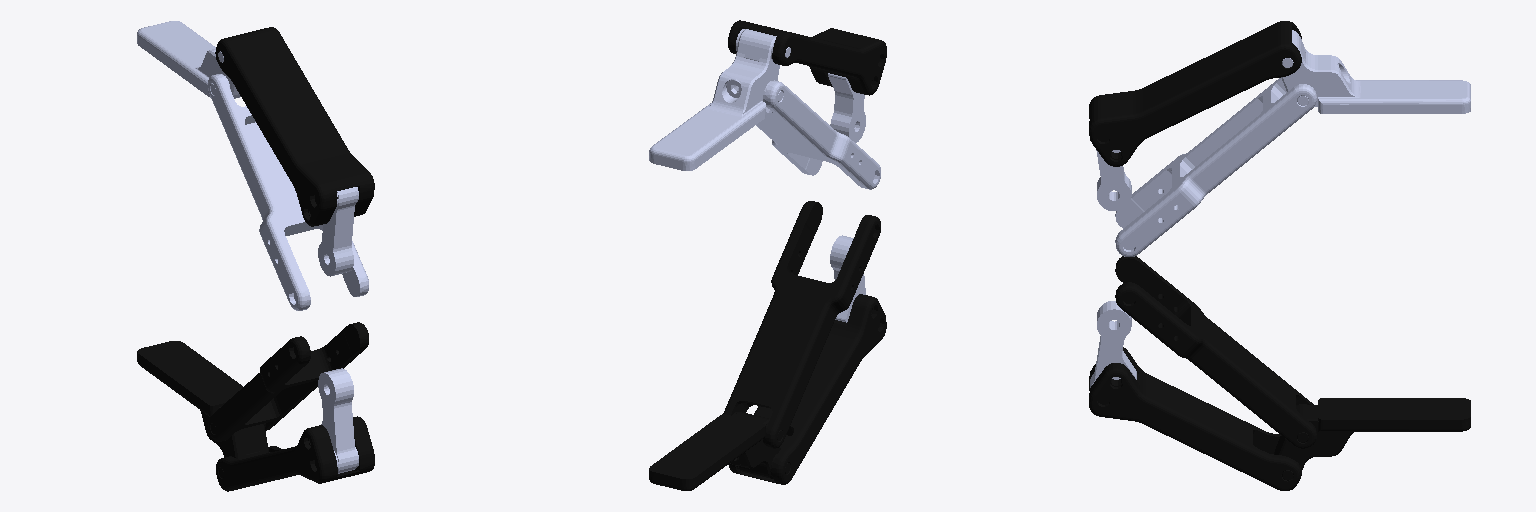
The robot description file, URDF, robot "ur5_robotiq_140":
<?xml version="1.0" ?>
<!-- =================================================================================== -->
<!-- |    This document was autogenerated by xacro from sisbot.xacro                   | -->
<!-- |    EDITING THIS FILE BY HAND IS NOT RECOMMENDED                                 | -->
<!-- =================================================================================== -->
<robot name="ur5_robotiq_140" xmlns:xacro="http://ros.org/wiki/xacro">
  <!--################################################
  ########              arm                    #######
  ####################################################-->

  <link name="base_link">
    <visual>
      <geometry>
        <mesh filename="../meshes/ur5/visual/base.obj"/>
      </geometry>
      <material name="LightGrey">
        <color rgba="0.7 0.7 0.7 1.0"/>
      </material>
    </visual>
    <collision>
      <geometry>
        <mesh filename="../meshes/ur5/collision/base.stl"/>
      </geometry>
    </collision>
    <inertial>
      <mass value="4.0"/>
      <origin rpy="0 0 0" xyz="0.0 0.0 0.0"/>
      <inertia ixx="0.00443333156" ixy="0.0" ixz="0.0" iyy="0.00443333156" iyz="0.0" izz="0.0072"/>
    </inertial>
  </link>

  <joint name="shoulder_pan_joint" type="revolute">
    <parent link="base_link"/>
    <child link="shoulder_link"/>
    <origin rpy="0.0 0.0 0.0" xyz="0.0 0.0 0.089159"/>
    <axis xyz="0 0 1"/>
    <limit effort="150.0" lower="-3.14159265359" upper="3.14159265359" velocity="3.15"/>
    <dynamics damping="0.0" friction="0.0"/>
  </joint>
  <link name="shoulder_link">
    <visual>
      <geometry>
        <mesh filename="../meshes/ur5/visual/shoulder.obj"/>
      </geometry>
      <material name="DarkGray">
        <color rgba="0.5 0.5 0.5 1.0"/>
      </material>
    </visual>
    <collision>
      <geometry>
        <mesh filename="../meshes/ur5/collision/shoulder.stl"/>
      </geometry>
    </collision>
    <inertial>
      <mass value="3.7"/>
      <origin rpy="0 0 0" xyz="0.0 0.0 0.0"/>
      <inertia ixx="0.010267495893" ixy="0.0" ixz="0.0" iyy="0.010267495893" iyz="0.0" izz="0.00666"/>
    </inertial>
  </link>
  <joint name="shoulder_lift_joint" type="revolute">
    <parent link="shoulder_link"/>
    <child link="upper_arm_link"/>
    <origin rpy="0.0 1.57079632679 0.0" xyz="0.0 0.13585 0.0"/>
    <axis xyz="0 1 0"/>
    <limit effort="150.0" lower="-3.14159265359" upper="3.14159265359" velocity="3.15"/>
    <dynamics damping="0.0" friction="0.0"/>
  </joint>
  <link name="upper_arm_link">
    <visual>
      <geometry>
        <mesh filename="../meshes/ur5/visual/upperarm.obj"/>
      </geometry>
      <material name="LightGrey">
        <color rgba="0.7 0.7 0.7 1.0"/>
      </material>
    </visual>
    <collision>
      <geometry>
        <mesh filename="../meshes/ur5/collision/upperarm.stl"/>
      </geometry>
    </collision>
    <inertial>
      <mass value="8.393"/>
      <origin rpy="0 0 0" xyz="0.0 0.0 0.28"/>
      <inertia ixx="0.22689067591" ixy="0.0" ixz="0.0" iyy="0.22689067591" iyz="0.0" izz="0.0151074"/>
    </inertial>
  </link>
  <joint name="elbow_joint" type="revolute">
    <parent link="upper_arm_link"/>
    <child link="forearm_link"/>
    <origin rpy="0.0 0.0 0.0" xyz="0.0 -0.1197 0.425"/>
    <axis xyz="0 1 0"/>
    <limit effort="150.0" lower="-3.14159265359" upper="3.14159265359" velocity="3.15"/>
    <dynamics damping="0.0" friction="0.0"/>
  </joint>
  <link name="forearm_link">
    <visual>
      <geometry>
        <mesh filename="../meshes/ur5/visual/forearm.obj"/>
      </geometry>
      <material name="LightGrey">
        <color rgba="0.7 0.7 0.7 1.0"/>
      </material>
    </visual>
    <collision>
      <geometry>
        <mesh filename="../meshes/ur5/collision/forearm.stl"/>
      </geometry>
    </collision>
    <inertial>
      <mass value="2.275"/>
      <origin rpy="0 0 0" xyz="0.0 0.0 0.25"/>
      <inertia ixx="0.049443313556" ixy="0.0" ixz="0.0" iyy="0.049443313556" iyz="0.0" izz="0.004095"/>
    </inertial>
  </link>
  <joint name="wrist_1_joint" type="revolute">
    <parent link="forearm_link"/>
    <child link="wrist_1_link"/>
    <origin rpy="0.0 1.57079632679 0.0" xyz="0.0 0.0 0.39225"/>
    <axis xyz="0 1 0"/>
    <limit effort="28.0" lower="-3.14159265359" upper="3.14159265359" velocity="3.2"/>
    <dynamics damping="0.0" friction="0.0"/>
  </joint>
  <link name="wrist_1_link">
    <visual>
      <geometry>
        <mesh filename="../meshes/ur5/visual/wrist1.obj"/>
      </geometry>
      <material name="DarkGray">
        <color rgba="0.5 0.5 0.5 1.0"/>
      </material>
    </visual>
    <collision>
      <geometry>
        <mesh filename="../meshes/ur5/collision/wrist1.stl"/>
      </geometry>
    </collision>
    <inertial>
      <mass value="1.219"/>
      <origin rpy="0 0 0" xyz="0.0 0.0 0.0"/>
      <inertia ixx="0.111172755531" ixy="0.0" ixz="0.0" iyy="0.111172755531" iyz="0.0" izz="0.21942"/>
    </inertial>
  </link>
  <joint name="wrist_2_joint" type="revolute">
    <parent link="wrist_1_link"/>
    <child link="wrist_2_link"/>
    <origin rpy="0.0 0.0 0.0" xyz="0.0 0.093 0.0"/>
    <axis xyz="0 0 1"/>
    <limit effort="28.0" lower="-3.14159265359" upper="3.14159265359" velocity="3.2"/>
    <dynamics damping="0.0" friction="0.0"/>
  </joint>
  <link name="wrist_2_link">
    <visual>
      <geometry>
        <mesh filename="../meshes/ur5/visual/wrist2.obj"/>
      </geometry>
      <material name="DarkGray">
        <color rgba="0.5 0.5 0.5 1.0"/>
      </material>
    </visual>
    <collision>
      <geometry>
        <mesh filename="../meshes/ur5/collision/wrist2.stl"/>
      </geometry>
    </collision>
    <inertial>
      <mass value="1.219"/>
      <origin rpy="0 0 0" xyz="0.0 0.0 0.0"/>
      <inertia ixx="0.111172755531" ixy="0.0" ixz="0.0" iyy="0.111172755531" iyz="0.0" izz="0.21942"/>
    </inertial>
  </link>
  <joint name="wrist_3_joint" type="revolute">
    <parent link="wrist_2_link"/>
    <child link="wrist_3_link"/>
    <origin rpy="0.0 0.0 0.0" xyz="0.0 0.0 0.09465"/>
    <axis xyz="0 1 0"/>
    <limit effort="28.0" lower="-3.14159265359" upper="3.14159265359" velocity="3.2"/>
    <dynamics damping="0.0" friction="0.0"/>
  </joint>
  <link name="wrist_3_link">
    <visual>
      <geometry>
        <mesh filename="../meshes/ur5/visual/wrist3.obj"/>
      </geometry>
      <material name="LightGrey">
        <color rgba="0.7 0.7 0.7 1.0"/>
      </material>
    </visual>
    <collision>
      <geometry>
        <mesh filename="../meshes/ur5/collision/wrist3.stl"/>
      </geometry>
    </collision>
    <inertial>
      <mass value="0.1879"/>
      <origin rpy="0 0 0" xyz="0.0 0.0 0.0"/>
      <inertia ixx="0.0171364731454" ixy="0.0" ixz="0.0" iyy="0.0171364731454" iyz="0.0" izz="0.033822"/>
    </inertial>
  </link>
  <joint name="ee_fixed_joint" type="fixed">
    <parent link="wrist_3_link"/>
    <child link="ee_link"/>
    <origin rpy="0.0 0.0 1.57079632679" xyz="0.0 0.0823 0.0"/>
  </joint>
  <link name="ee_link">
    <collision>
      <geometry>
        <box size="0.01 0.01 0.01"/>
      </geometry>
      <origin rpy="0 0 0" xyz="-0.01 0 0"/>
    </collision>
  </link>

  <!--################################################
  ########              gripper                  #####
  ####################################################-->

 <link name="robotiq_140_robotiq_arg2f_base_link">
    <inertial>
      <origin rpy="0 0 0" xyz="-0.00013 0.00011 0.03284"/>
      <mass value="0.52954"/>
      <inertia ixx="573495E-9" ixy="-554E-9" ixz="2628E-9" iyy="681780E-9" iyz="607E-9" izz="483281E-9"/>
    </inertial>
    <visual>
      <origin rpy="0 0 0" xyz="0 0 0"/>
      <geometry>
        <mesh filename="package://robotiq_140_gripper_description/meshes/GRIPPER_base_axis.dae" scale="0.001 0.001 0.001"/>
      </geometry>
      <material name="Gazebo/Black">
        <color rgba="0.1 0.1 0.1 1"/>
      </material>
    </visual>
    <collision>
      <origin rpy="0 0 0" xyz="0 0 0"/>
      <geometry>
        <mesh filename="package://robotiq_140_gripper_description/meshes/GRIPPER_base_axis.dae" scale="0.001 0.001 0.001"/>
      </geometry>
    </collision>
  </link>
  <gazebo reference="robotiq_140_robotiq_arg2f_base_link">
    <material>Gazebo/Black</material>
    <selfCollide>True</selfCollide>
  </gazebo>
  <!-- robotiq_85_left_knuckle_link -->
  <link name="robotiq_140_left_outer_knuckle">
    <inertial>
      <origin rpy="0 0 0" xyz="0.01616 0 -0.00133"/>
      <mass value="0.0131"/>
      <inertia ixx="325.5E-9" ixy="0" ixz="197.94E-9" iyy="2306.36E-9" iyz="0" izz="2176E-9"/>
    </inertial>
    <visual>
      <origin rpy="0 0 0" xyz="0 0 0"/>
      <geometry>
        <mesh filename="package://robotiq_140_gripper_description/meshes/robotiq_140_left_outer_knuckle.dae" scale="0.001 0.001 0.001"/>
      </geometry>
      <material name="">
        <color rgba="0.792156862745098 0.819607843137255 0.933333333333333 1"/>
      </material>
    </visual>
    <collision>
      <origin rpy="0 0 0" xyz="0 0 0"/>
      <geometry>
        <mesh filename="package://robotiq_140_gripper_description/meshes/robotiq_140_left_outer_knuckle.dae" scale="0.001 0.001 0.001"/>
      </geometry>
    </collision>
  </link>
  <gazebo reference="robotiq_140_left_outer_knuckle">
    <material>Gazebo/Grey</material>
    <selfCollide>True</selfCollide>
  </gazebo>
  <!-- robotiq_85_right_knuckle_link -->
  <link name="robotiq_140_right_outer_knuckle">
    <inertial>
      <origin rpy="0 0 0" xyz="-0.01616 0 -0.00133"/>
      <mass value="0.0131"/>
      <inertia ixx="325.5E-9" ixy="0" ixz="-197.94E-9" iyy="2306.36E-9" iyz="0" izz="2176E-9"/>
    </inertial>
    <visual>
      <origin rpy="0 0 0" xyz="0 0 0"/>
      <geometry>
        <mesh filename="package://robotiq_140_gripper_description/meshes/robotiq_140_right_outer_knuckle.dae" scale="0.001 0.001 0.001"/>
      </geometry>
      <material name="">
        <color rgba="0.792156862745098 0.819607843137255 0.933333333333333 1"/>
      </material>
    </visual>
    <collision>
      <origin rpy="0 0 0" xyz="0 0 0"/>
      <geometry>
        <mesh filename="package://robotiq_140_gripper_description/meshes/robotiq_140_right_outer_knuckle.dae" scale="0.001 0.001 0.001"/>
      </geometry>
    </collision>
  </link>
  <gazebo reference="robotiq_140_right_outer_knuckle">
    <material>Gazebo/Grey</material>
    <selfCollide>True</selfCollide>
  </gazebo>
  <!-- robotiq_85_left_inner_knuckle_link -->
  <link name="robotiq_140_left_inner_knuckle">
    <inertial>
      <origin rpy="0 0 0" xyz="0.03332 0 0.0379"/>
      <mass value="0.04476"/>
      <inertia ixx="28054E-9" ixy="0" ixz="-19174E-9" iyy="39758E-9" iyz="0" izz="23453E-9"/>
    </inertial>
    <visual>
      <origin rpy="0 0 0" xyz="0 0 0"/>
      <geometry>
        <mesh filename="package://robotiq_140_gripper_description/meshes/robotiq_140_left_inner_knuckle.dae" scale="0.001 0.001 0.001"/>
      </geometry>
      <material name="">
        <color rgba="0.792156862745098 0.819607843137255 0.933333333333333 1"/>
      </material>
    </visual>
    <collision>
      <origin rpy="0 0 0" xyz="0 0 0"/>
      <geometry>
        <mesh filename="package://robotiq_140_gripper_description/meshes/robotiq_140_left_inner_knuckle.dae" scale="0.001 0.001 0.001"/>
      </geometry>
    </collision>
  </link>
  <gazebo reference="robotiq_140_left_inner_knuckle">
    <material>Gazebo/Black</material>
    <selfCollide>False</selfCollide>
  </gazebo>
  <!-- robotiq_85_right_inner_knuckle_link -->
  <link name="robotiq_140_right_inner_knuckle">
    <inertial>
      <origin rpy="0 0 0" xyz="-0.03332 0 0.0379"/>
      <mass value="0.04476"/>
      <inertia ixx="28054E-9" ixy="0" ixz="19174E-9" iyy="39758E-9" iyz="0" izz="23453E-9"/>
    </inertial>
    <visual>
      <origin rpy="0 0 0" xyz="0 0 0"/>
      <geometry>
        <mesh filename="package://robotiq_140_gripper_description/meshes/robotiq_140_right_inner_knuckle.dae" scale="0.001 0.001 0.001"/>
      </geometry>
      <material name="Gazebo/Black">
        <color rgba="0.1 0.1 0.1 1"/>
      </material>
    </visual>
    <collision>
      <origin rpy="0 0 0" xyz="0 0 0"/>
      <geometry>
        <mesh filename="package://robotiq_140_gripper_description/meshes/robotiq_140_right_inner_knuckle.dae" scale="0.001 0.001 0.001"/>
      </geometry>
    </collision>
  </link>
  <gazebo reference="robotiq_140_right_inner_knuckle">
    <material>Gazebo/Black</material>
    <selfCollide>False</selfCollide>
  </gazebo>
  <!-- robotiq_85_left_finger_link -->
  <link name="robotiq_140_left_inner_finger">
    <inertial>
      <origin rpy="0 0 0" xyz="-0.01563 0 0.02522"/>
      <mass value="0.045"/>
      <inertia ixx="26663E-9" ixy="0" ixz="5579E-9" iyy="28009E-9" iyz="0" izz="4368E-9"/>
    </inertial>
    <visual>
      <origin rpy="0 0 0" xyz="0 0 0"/>
      <geometry>
        <mesh filename="package://robotiq_140_gripper_description/meshes/robotiq_140_left_inner_finger.dae" scale="0.001 0.001 0.001"/>
      </geometry>
      <material name="">
        <color rgba="0.792156862745098 0.819607843137255 0.933333333333333 1"/>
      </material>
    </visual>
    <collision>
      <origin rpy="0 0 0" xyz="0 0 0"/>
      <geometry>
        <mesh filename="package://robotiq_140_gripper_description/meshes/robotiq_140_left_inner_finger.dae" scale="0.001 0.001 0.001"/>
      </geometry>
    </collision>
  </link>
  <gazebo reference="robotiq_140_left_inner_finger">
    <material>Gazebo/Black</material>
    <selfCollide>False</selfCollide>
  </gazebo>
  <!-- robotiq_85_right_finger_link -->
  <link name="robotiq_140_right_inner_finger">
    <inertial>
      <origin rpy="0 0 0" xyz="0.01563 0 0.02522"/>
      <mass value="0.045"/>
      <inertia ixx="26663E-9" ixy="0" ixz="-5579E-9" iyy="28009E-9" iyz="0" izz="4368E-9"/>
    </inertial>
    <visual>
      <origin rpy="0 0 0" xyz="0 0 0"/>
      <geometry>
        <mesh filename="package://robotiq_140_gripper_description/meshes/robotiq_140_right_inner_finger.dae" scale="0.001 0.001 0.001"/>
      </geometry>
      <material name="Gazebo/Black">
        <color rgba="0.1 0.1 0.1 1"/>
      </material>
    </visual>
    <collision>
      <origin rpy="0 0 0" xyz="0 0 0"/>
      <geometry>
        <mesh filename="package://robotiq_140_gripper_description/meshes/robotiq_140_right_inner_finger.dae" scale="0.001 0.001 0.001"/>
      </geometry>
    </collision>
  </link>
  <gazebo reference="robotiq_140_right_inner_finger">
    <material>Gazebo/Black</material>
    <selfCollide>False</selfCollide>
  </gazebo>
  <!-- robot -->
  <link name="robotiq_140_left_outer_finger">
    <inertial>
      <origin rpy="0 0 0" xyz="0.01482 0 0.03451"/>
      <mass value="0.07637"/>
      <inertia ixx="45513E-9" ixy="0" ixz="-20691E-9" iyy="52570E-9" iyz="0" izz="17804E-9"/>
    </inertial>
    <visual>
      <origin rpy="0 0 0" xyz="0 0 0"/>
      <geometry>
        <mesh filename="package://robotiq_140_gripper_description/meshes/robotiq_140_left_outer_finger.dae" scale="0.001 0.001 0.001"/>
      </geometry>
      <material name="Gazebo/Black">
        <color rgba="0.1 0.1 0.1 1"/>
      </material>
    </visual>
    <collision>
      <origin rpy="0 0 0" xyz="0 0 0"/>
      <geometry>
        <mesh filename="package://robotiq_140_gripper_description/meshes/robotiq_140_left_outer_finger.dae" scale="0.001 0.001 0.001"/>
      </geometry>
    </collision>
  </link>
  <gazebo reference="robotiq_140_left_outer_finger">
    <material>Gazebo/Black</material>
    <selfCollide>True</selfCollide>
  </gazebo>
  <!-- robot -->
  <link name="robotiq_140_right_outer_finger">
    <inertial>
      <origin rpy="0 0 0" xyz="-0.01482 0 0.03451"/>
      <mass value="0.07637"/>
      <inertia ixx="45513E-9" ixy="0" ixz="20691E-9" iyy="52570E-9" iyz="0" izz="17804E-9"/>
    </inertial>
    <visual>
      <origin rpy="0 0 0" xyz="0 0 0"/>
      <geometry>
        <mesh filename="package://robotiq_140_gripper_description/meshes/robotiq_140_right_outer_finger.dae" scale="0.001 0.001 0.001"/>
      </geometry>
      <material name="Gazebo/Black">
        <color rgba="0.1 0.1 0.1 1"/>
      </material>
    </visual>
    <collision>
      <origin rpy="0 0 0" xyz="0 0 0"/>
      <geometry>
        <mesh filename="package://robotiq_140_gripper_description/meshes/robotiq_140_right_outer_finger.dae" scale="0.001 0.001 0.001"/>
      </geometry>
    </collision>
  </link>
  <gazebo reference="robotiq_140_right_outer_finger">
    <material>Gazebo/Black</material>
    <selfCollide>True</selfCollide>
  </gazebo>
  <!-- robot -->
  <joint name="robotiq_arg2f_base_to_robotiq_140_left_outer_knuckle" type="revolute">
    <origin rpy="0 0 0" xyz="0.0306 0 0.05466"/>
    <parent link="robotiq_140_robotiq_arg2f_base_link"/>
    <child link="robotiq_140_left_outer_knuckle"/>
    <axis xyz="0 -1 0"/>
    <limit effort="18.65" lower="0" upper="0.78574722925" velocity="2.0"/>
    <mimic joint="robotiq_140_joint_finger" multiplier="1" offset="0"/>
  </joint>
  <!-- robot -->
  <joint name="robotiq_140_joint_finger" type="revolute">
    <origin rpy="0 0 0" xyz="-0.0306 0 0.05466"/>
    <parent link="robotiq_140_robotiq_arg2f_base_link"/>
    <child link="robotiq_140_right_outer_knuckle"/>
    <axis xyz="0 1 0"/>
    <limit effort="18.65" lower="0" upper="0.78574722925" velocity="3.54"/>
  </joint>
  <!-- robot -->
  <joint name="robotiq_arg2f_base_to_robotiq_140_left_inner_knuckle" type="revolute">
    <origin rpy="0 0 0" xyz="0.0127 0 0.06118"/>
    <parent link="robotiq_140_robotiq_arg2f_base_link"/>
    <child link="robotiq_140_left_inner_knuckle"/>
    <axis xyz="0 -1 0"/>
    <limit effort="18.65" lower="0" upper="0.78574722925" velocity="3.54"/>
    <mimic joint="robotiq_140_joint_finger" multiplier="1" offset="0"/>
  </joint>
  <!-- robot -->
  <joint name="robotiq_arg2f_base_to_robotiq_140_right_inner_knuckle" type="revolute">
    <origin rpy="0 0 0" xyz="-0.0127 0 0.06118"/>
    <parent link="robotiq_140_robotiq_arg2f_base_link"/>
    <child link="robotiq_140_right_inner_knuckle"/>
    <axis xyz="0 1 0"/>
    <limit effort="18.65" lower="0" upper="0.78574722925" velocity="3.54"/>
    <mimic joint="robotiq_140_joint_finger" multiplier="1" offset="0"/>
  </joint>
  <!-- robot -->
  <joint name="robotiq_140_left_outer_knuckle_to_finger" type="fixed">
    <origin rpy="0 0 0" xyz="0.03142 0 -0.00453"/>
    <parent link="robotiq_140_left_outer_knuckle"/>
    <child link="robotiq_140_left_outer_finger"/>
  </joint>

  <!-- robot -->
  <joint name="robotiq_140_right_outer_knuckle_to_finger" type="fixed">
    <origin rpy="0 0 0" xyz="-0.03142 0 -0.00453"/>
    <parent link="robotiq_140_right_outer_knuckle"/>
    <child link="robotiq_140_right_outer_finger"/>
  </joint>
  <!-- robot -->
  <joint name="robotiq_140_left_outer_finger_to_inner" type="revolute">
    <origin rpy="0 0 0" xyz="0.03543 0 0.0789"/>
    <parent link="robotiq_140_left_outer_finger"/>
    <child link="robotiq_140_left_inner_finger"/>
    <axis xyz="0 1 0"/>
    <limit effort="18.65" lower="0" upper="0.78574722925" velocity="3.54"/>
    <mimic joint="robotiq_140_joint_finger" multiplier="1" offset="0"/>
  </joint>
  <!-- robot -->
  <joint name="robotiq_140_right_outer_finger_to_inner" type="revolute">
    <origin rpy="0 0 0" xyz="-0.03543 0 0.0789"/>
    <parent link="robotiq_140_right_outer_finger"/>
    <child link="robotiq_140_right_inner_finger"/>
    <axis xyz="0 -1 0"/>
    <limit effort="18.65" lower="0" upper="0.78574722925" velocity="3.54"/>
    <mimic joint="robotiq_140_joint_finger" multiplier="1" offset="0"/>
  </joint>


<!--################################################
  ########          connect model                #####
  ####################################################-->

  <link name="world"/>
  <!-- connect gripper to arm -->
  <joint name="arm_gripper_joint" type="fixed">
    <parent link="ee_link"/>
    <child link="robotiq_140_robotiq_arg2f_base_link"/>
    <origin rpy="-1.57 1.57 -1.57" xyz="0.0 0.0 0.0"/>
  </joint>

  <!-- connect arm to world -->
  <joint name="world_arm_joint" type="fixed">
    <parent link="world"/>
    <child link="base_link"/>
    <origin rpy="0.0 0.0 0" xyz="0 0 0.78"/>
  </joint>


</robot>

--- What the picture shows (computed from the rendered views, not written in the file) ---
The picture shows the robot from 3 angles, left to right: view 1: azimuth 30°, elevation 25°; view 2: azimuth 150°, elevation 25°; view 3: azimuth 270°, elevation 25°; orthographic projection.
Robot: ur5_robotiq_140 — 18 links, 17 joints (12 revolute, 5 fixed); root link world; default pose: every joint at zero.
Links seen in each view (by area): view 1: robotiq_140_left_outer_finger, robotiq_140_left_inner_knuckle, robotiq_140_right_inner_knuckle, robotiq_140_right_inner_finger, robotiq_140_right_outer_finger, robotiq_140_left_inner_finger, robotiq_140_right_outer_knuckle, robotiq_140_left_outer_knuckle; view 2: robotiq_140_right_inner_knuckle, robotiq_140_left_inner_finger, robotiq_140_right_outer_finger, robotiq_140_right_inner_finger, robotiq_140_left_inner_knuckle, robotiq_140_left_outer_finger, robotiq_140_left_outer_knuckle, robotiq_140_right_outer_knuckle; view 3: robotiq_140_left_outer_finger, robotiq_140_right_inner_knuckle, robotiq_140_left_inner_knuckle, robotiq_140_right_outer_finger, robotiq_140_left_inner_finger, robotiq_140_right_inner_finger, robotiq_140_right_outer_knuckle, robotiq_140_left_outer_knuckle.
Link boxes in pixels (x1,y1,x2,y2): robotiq_140_left_outer_finger: (215,27,374,226); robotiq_140_left_inner_knuckle: (208,74,368,310); robotiq_140_right_inner_knuckle: (208,322,368,441); robotiq_140_right_inner_finger: (137,341,269,477); robotiq_140_right_outer_finger: (216,416,374,491); robotiq_140_left_inner_finger: (137,21,240,98); robotiq_140_right_outer_knuckle: (318,368,358,473); robotiq_140_left_outer_knuckle: (318,187,358,276); robotiq_140_right_inner_knuckle: (723,201,880,448); robotiq_140_left_inner_finger: (649,29,790,170); robotiq_140_right_outer_finger: (728,294,886,484); robotiq_140_right_inner_finger: (649,412,790,490); robotiq_140_left_inner_knuckle: (756,80,880,189); robotiq_140_left_outer_finger: (728,20,886,95); robotiq_140_left_outer_knuckle: (828,73,865,142); robotiq_140_right_outer_knuckle: (830,235,865,322); robotiq_140_left_outer_finger: (1089,21,1301,166); robotiq_140_right_inner_knuckle: (1115,256,1316,448); robotiq_140_left_inner_knuckle: (1115,78,1316,256); robotiq_140_right_outer_finger: (1089,347,1301,490); robotiq_140_left_inner_finger: (1281,30,1470,113); robotiq_140_right_inner_finger: (1274,398,1470,480); robotiq_140_right_outer_knuckle: (1090,301,1136,387); robotiq_140_left_outer_knuckle: (1096,150,1131,210).
Size in the robot's own frame: 0.0351 by 0.1638 by 0.2113 metres.
8 mesh visuals loaded from 16 distinct referenced files (8 Collada DAE); not drawn: 8 (reference not matched to a file when rendering).